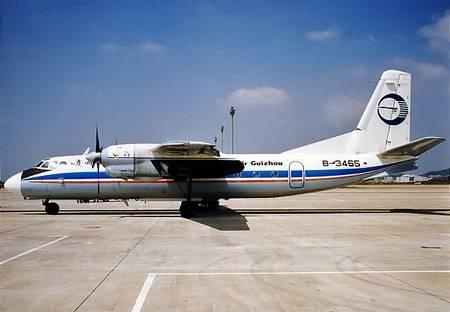airplane: (3, 69, 439, 217)
